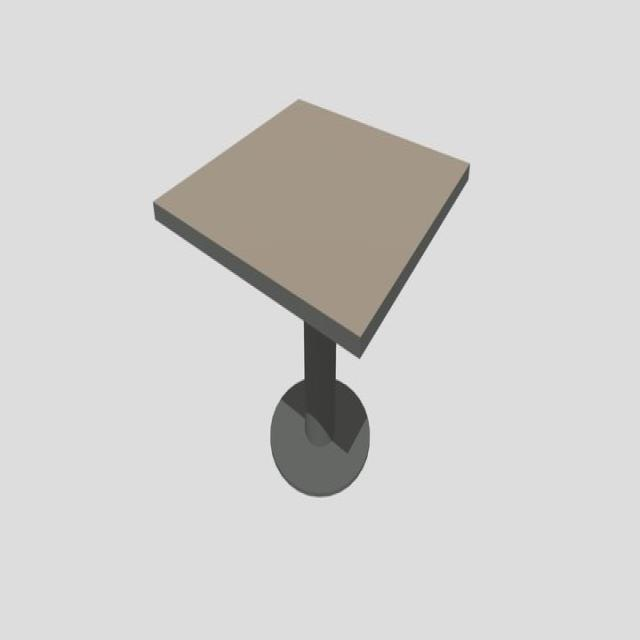table: (151, 98, 470, 496)
